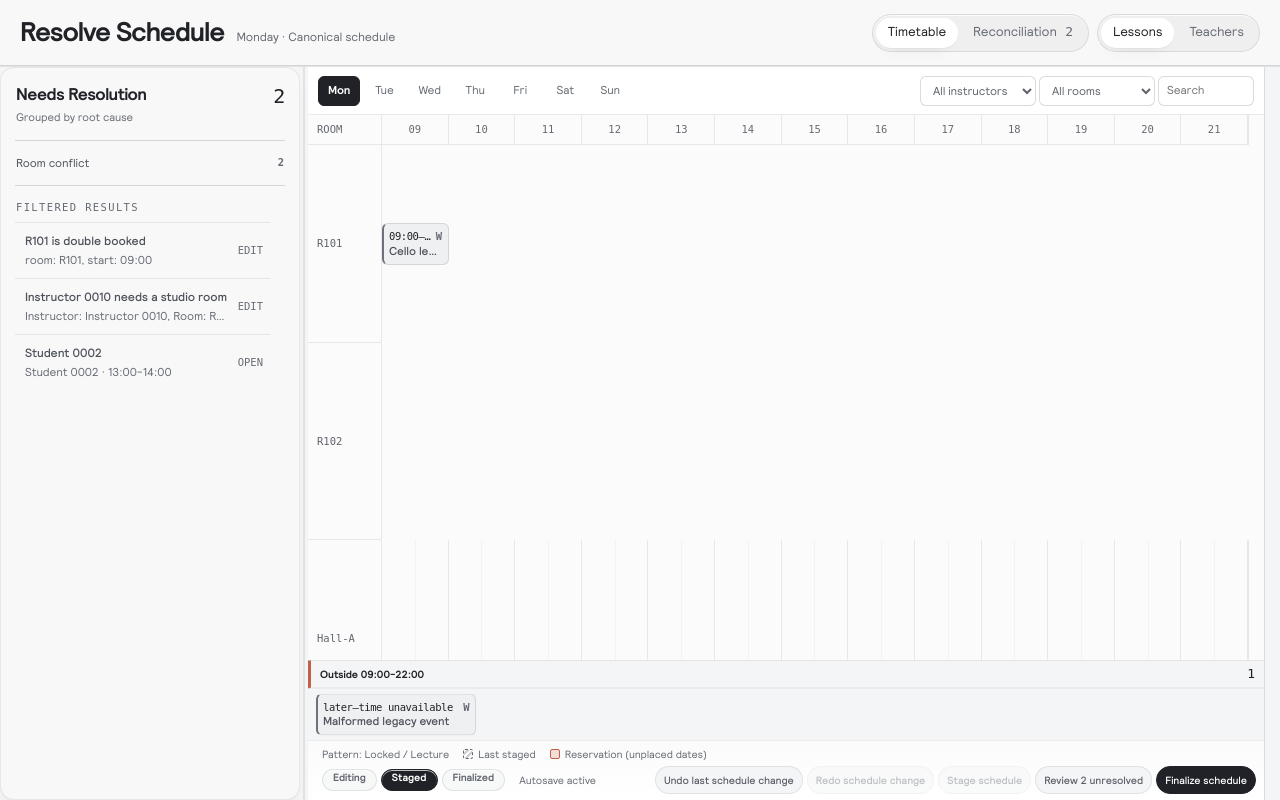
ResolvePage › distinguishes weekly studio and locked assignments without color alone
What coordinates should you click on to do the following:
click the button with aria-label "Tuesday"
I would click on:
 (384, 90)
Its box is [363, 76, 405, 106].
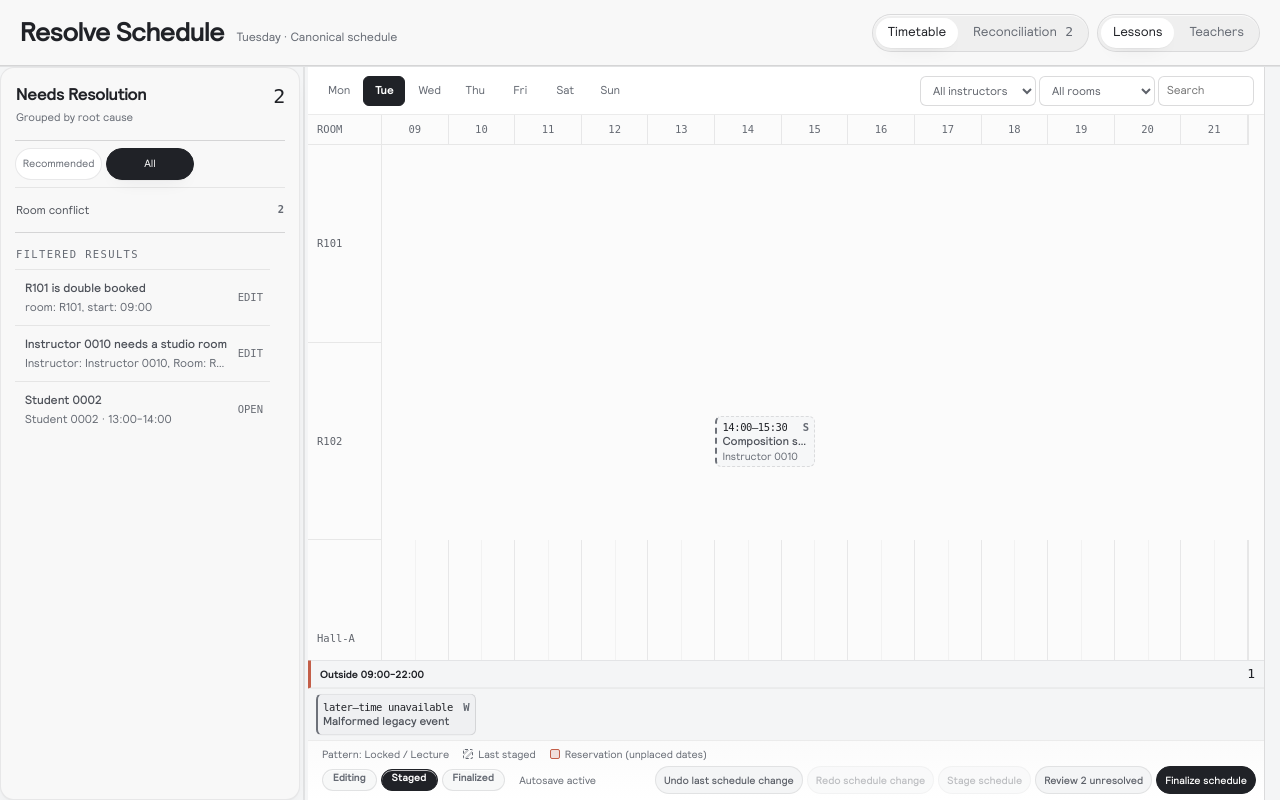
Result: the button "14:00–15:30 S Composition studio Instructor 0010" has attribute data-kind="studio" at [716, 416, 816, 467]
What coordinates should you click on to do the following:
click the button with aria-label "Wednesday"
I would click on:
 (430, 90)
Its box is [408, 76, 451, 106].
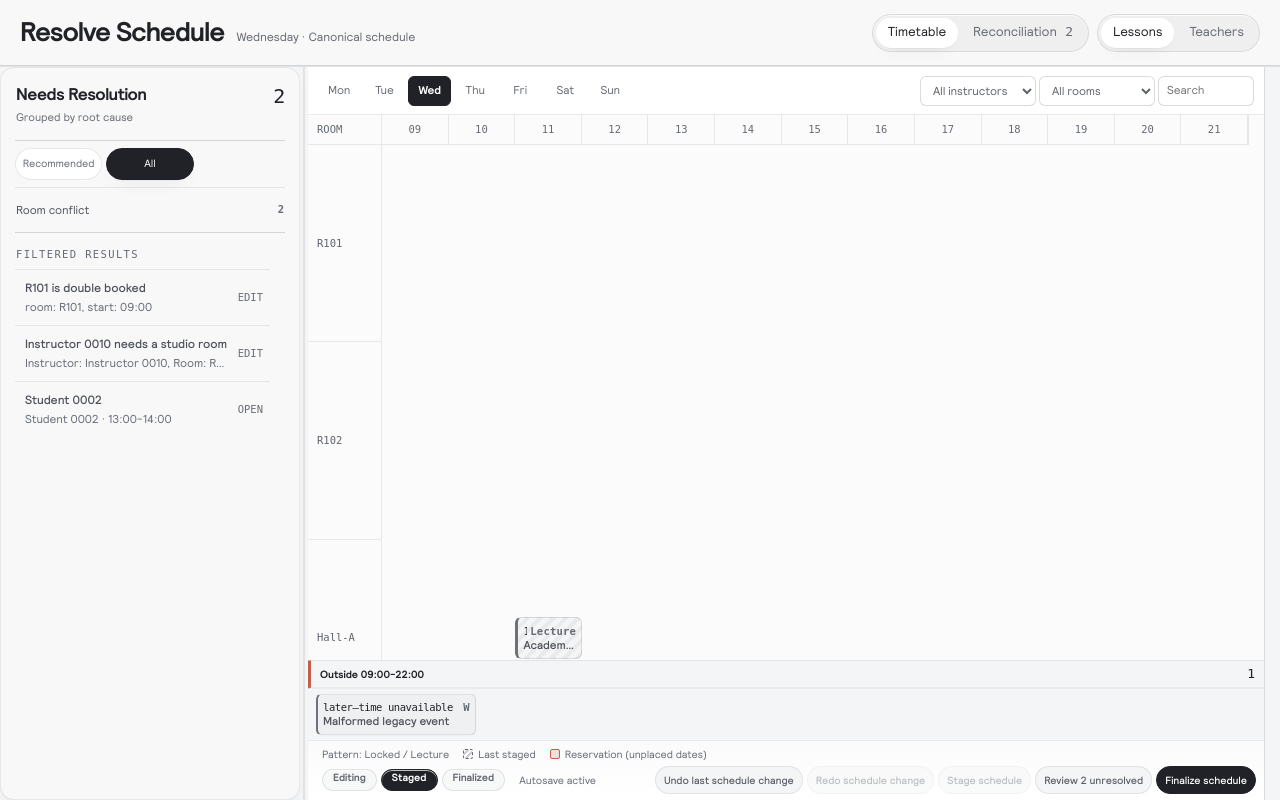
Result: the button "11:00–12:00 Lecture Academic lecture" is shown at [515, 617, 582, 659]
